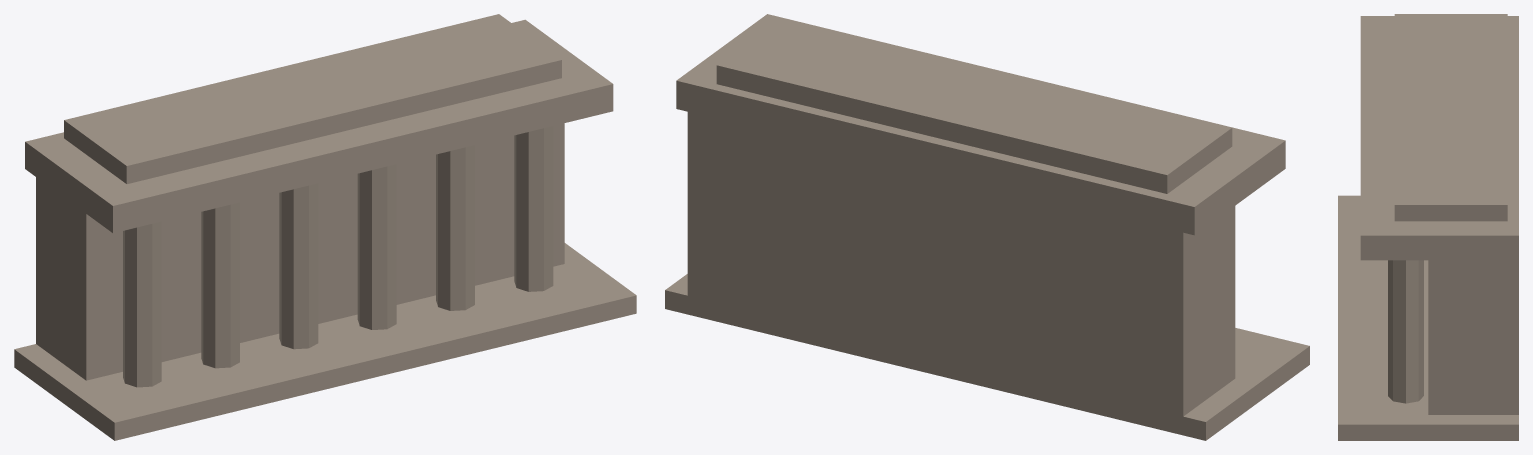
Rendered from museo.obj.
3 views of the same model, side by side, from view 1: azimuth 30°, elevation 25°; view 2: azimuth 150°, elevation 25°; view 3: azimuth 270°, elevation 25° (orthographic). The views are drawn at different scales.
Visible parts, largest first — view 1: Museo_Fondo; view 2: Museo_Fondo; view 3: Museo_Fondo.
Part boxes in pixels (x1,y1,x2,y2): Museo_Fondo: (14, 14, 636, 440); Museo_Fondo: (665, 14, 1309, 440); Museo_Fondo: (1338, 14, 1518, 440).
Size of the model in its own units: 12 by 5.3 by 4.
